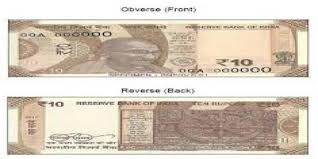ten: (20, 28, 288, 71)
